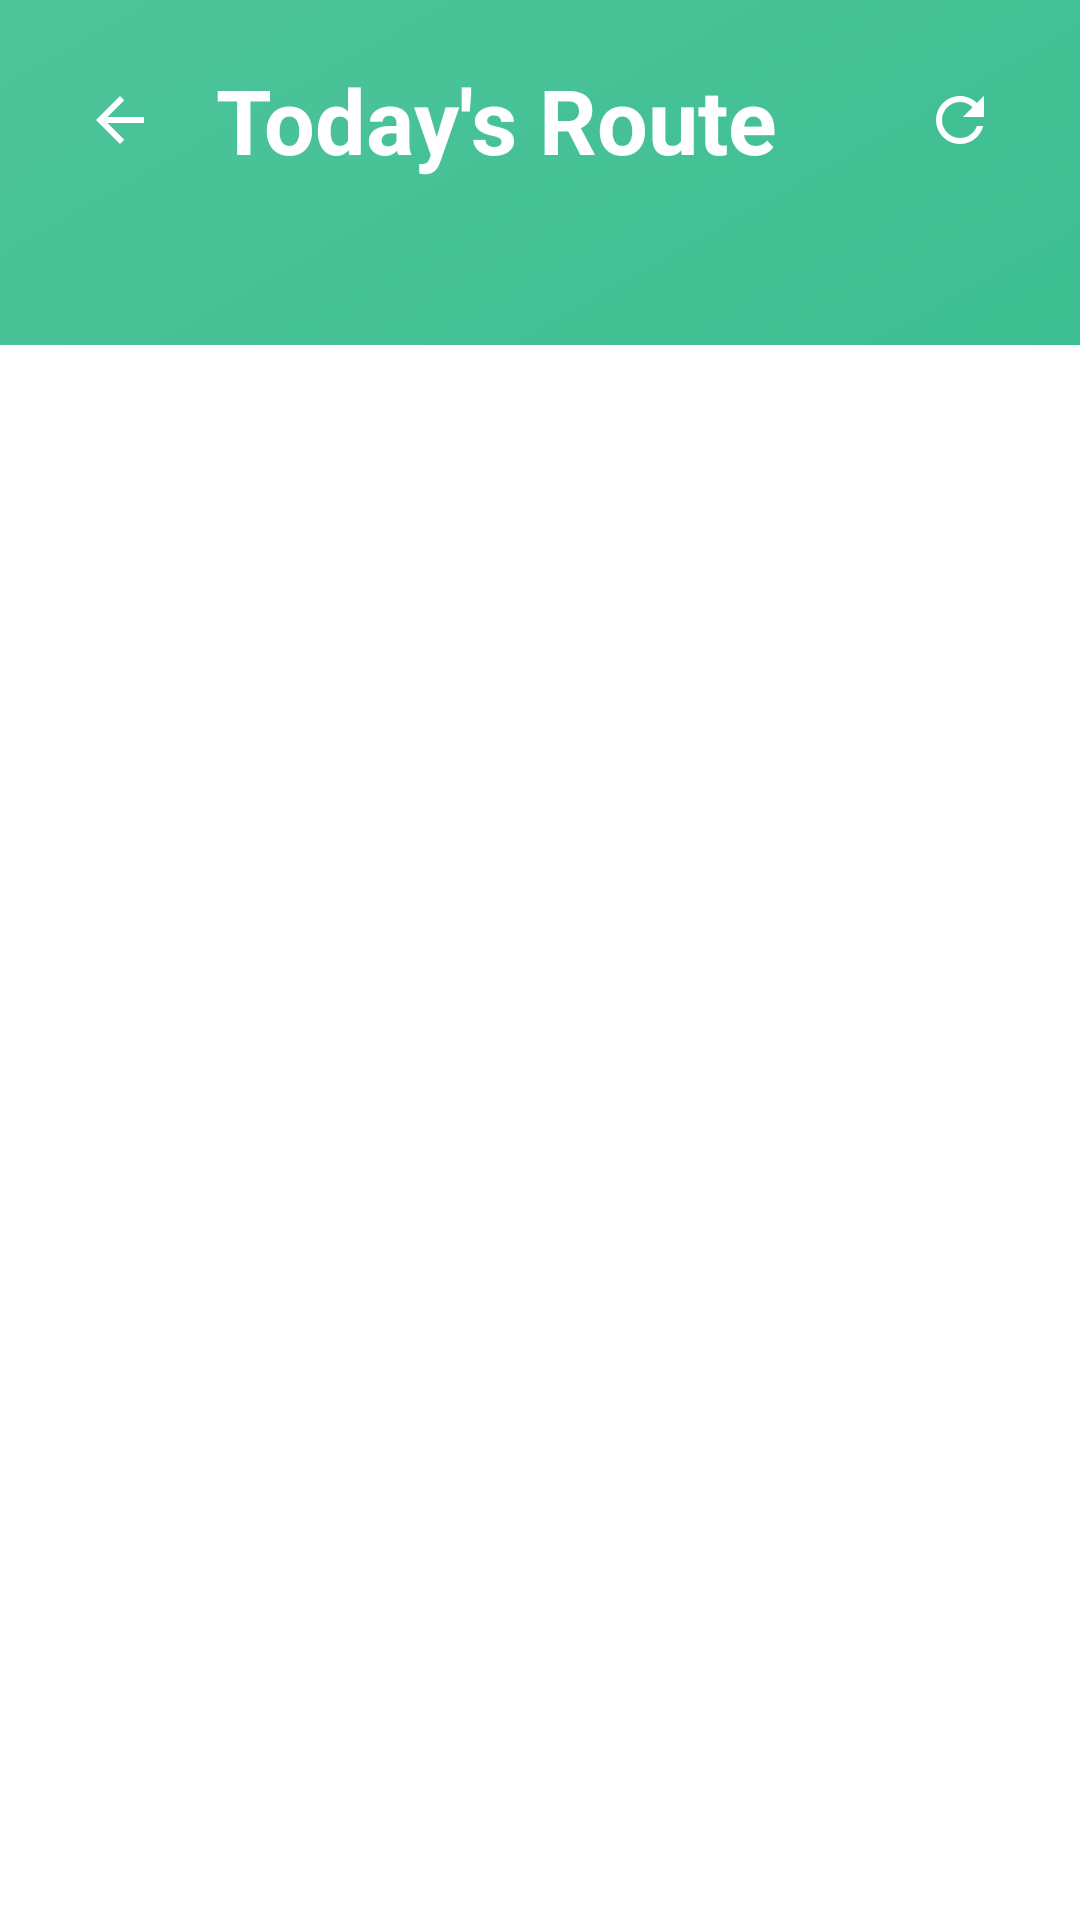

Icons on this 1080x1920 Android screen, each with its box as bbox=(x1, y1, x2, y2):
Back: bbox=(96, 96, 144, 144)
Refresh: bbox=(936, 96, 984, 144)
